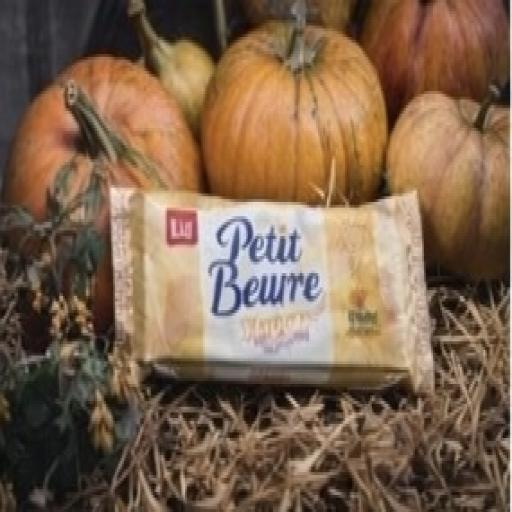petit-beurre: (73, 105, 467, 440)
